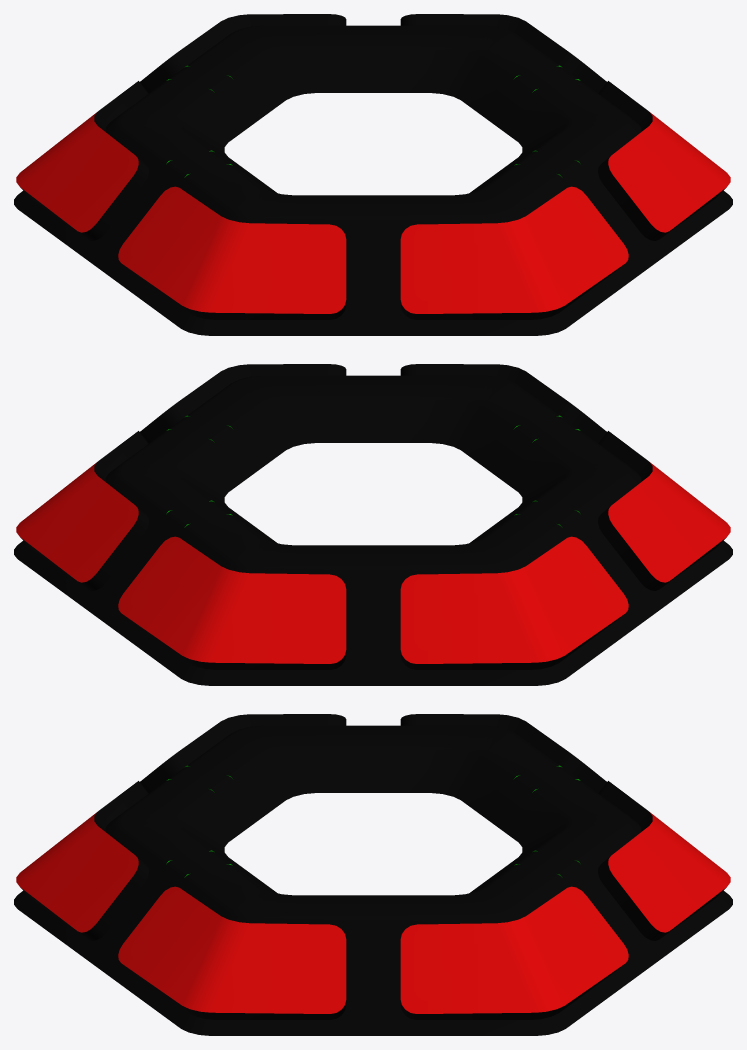
Rendered from SM_Hub_Ceiling.fbx.
3 views of the same model, one above another, from view 1: azimuth 30°, elevation 25°; view 2: azimuth 150°, elevation 25°; view 3: azimuth 270°, elevation 25° (orthographic).
Visible parts, largest first — view 1: SM_Hub_Ceiling; view 2: SM_Hub_Ceiling; view 3: SM_Hub_Ceiling.
Part boxes in pixels (x1,y1,x2,y2): SM_Hub_Ceiling: (14, 14, 732, 335); SM_Hub_Ceiling: (14, 364, 732, 685); SM_Hub_Ceiling: (14, 714, 732, 1035).
Size of the model in its own units: 1732 by 252 by 1967.
